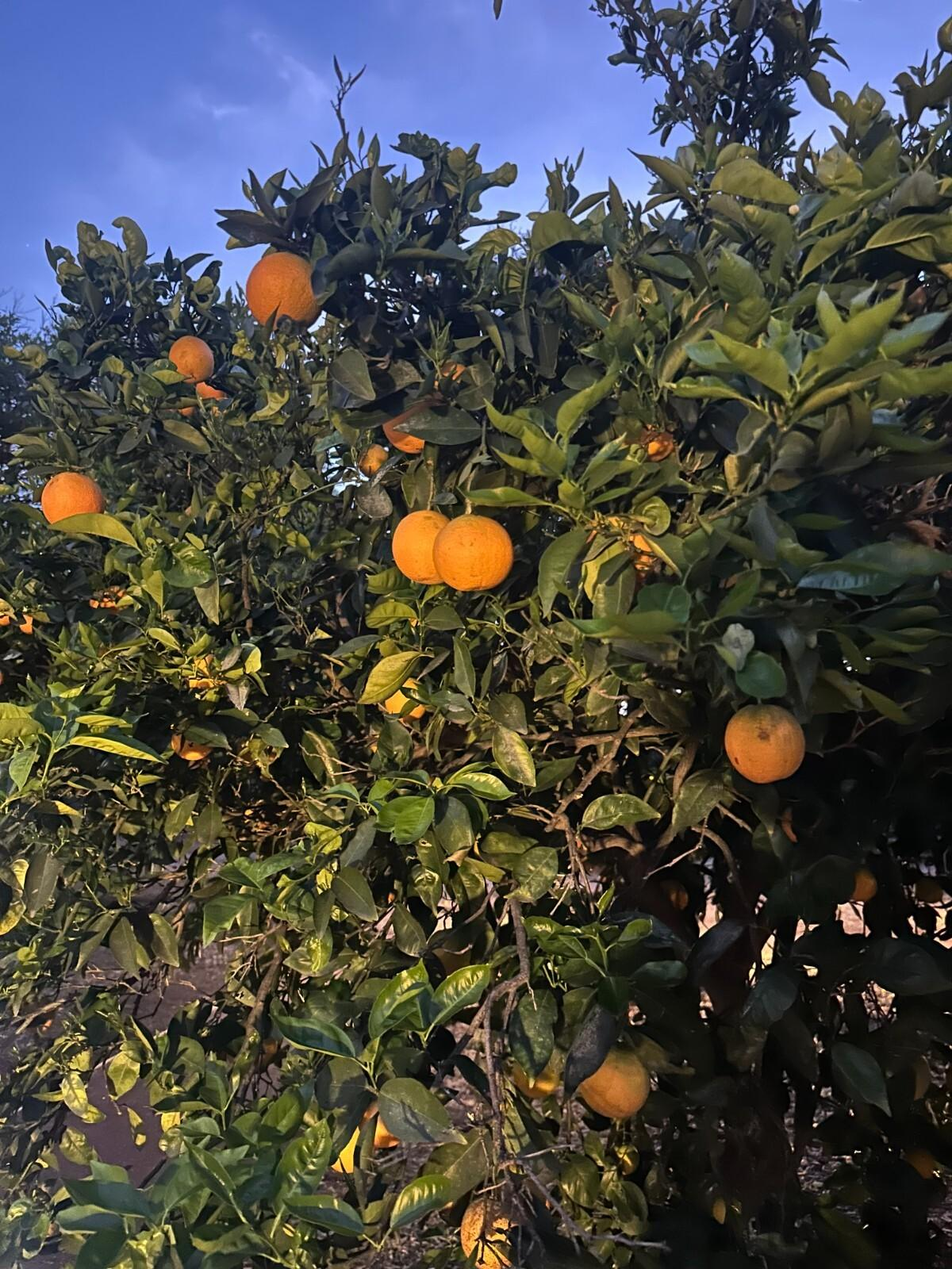orange: (724, 704, 804, 783), (432, 514, 512, 591), (246, 252, 323, 331), (461, 1194, 531, 1268), (578, 1048, 650, 1119), (588, 515, 656, 582), (393, 511, 448, 583), (381, 395, 443, 453), (614, 410, 675, 463), (42, 473, 104, 523), (357, 1099, 401, 1149), (169, 335, 213, 383), (511, 1055, 558, 1099), (888, 1053, 931, 1100), (328, 1125, 368, 1174), (385, 677, 430, 720), (171, 732, 214, 761), (903, 1146, 937, 1180), (356, 443, 388, 478), (435, 360, 470, 392), (608, 1141, 640, 1175), (89, 586, 130, 610), (852, 866, 879, 901), (661, 879, 689, 909), (196, 382, 224, 411), (713, 1197, 740, 1224), (782, 806, 797, 844), (19, 612, 33, 634), (170, 405, 193, 416), (0, 611, 11, 626)
